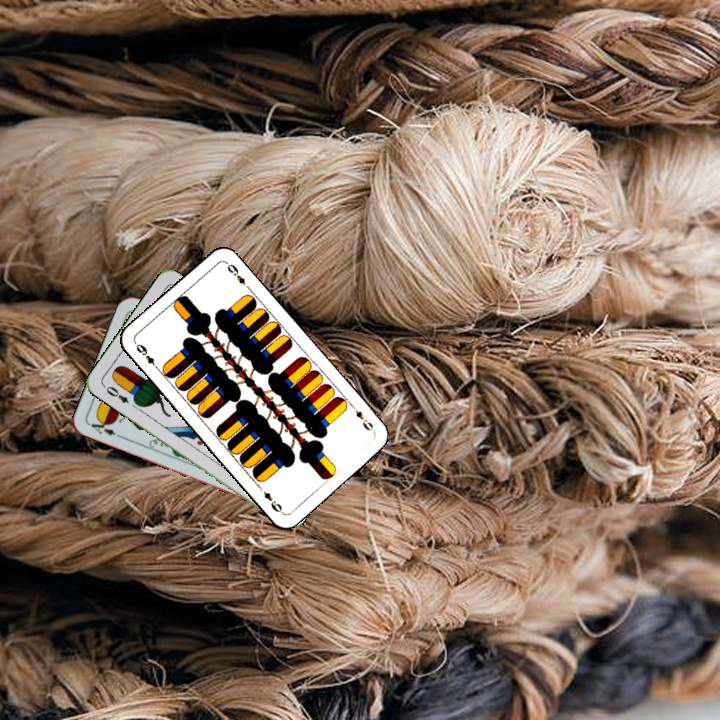E9: (347, 401, 377, 435), (132, 340, 162, 373)
EA: (85, 415, 124, 441)
EO: (99, 381, 132, 406)
